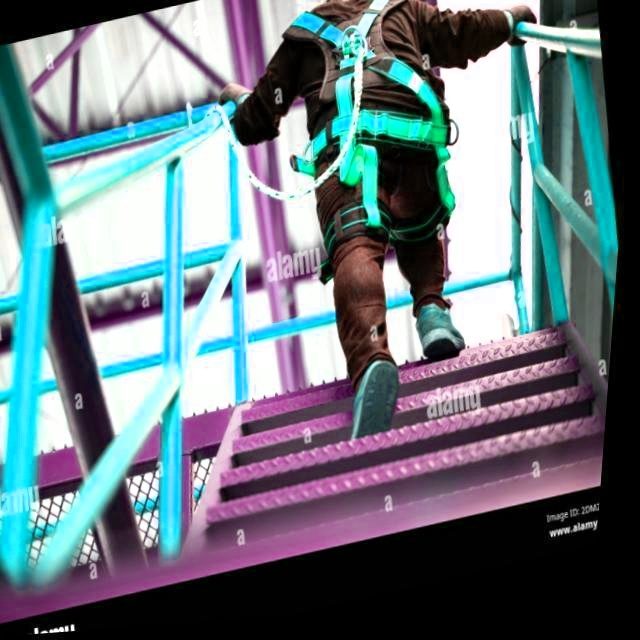safety belt: (285, 13, 452, 195)
